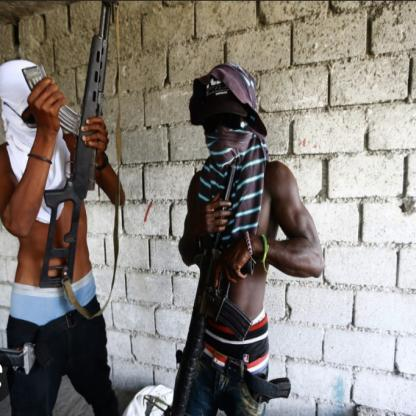criminal: (164, 63, 326, 416), (0, 59, 139, 416)
weapon: (22, 0, 115, 291), (168, 165, 252, 416)
